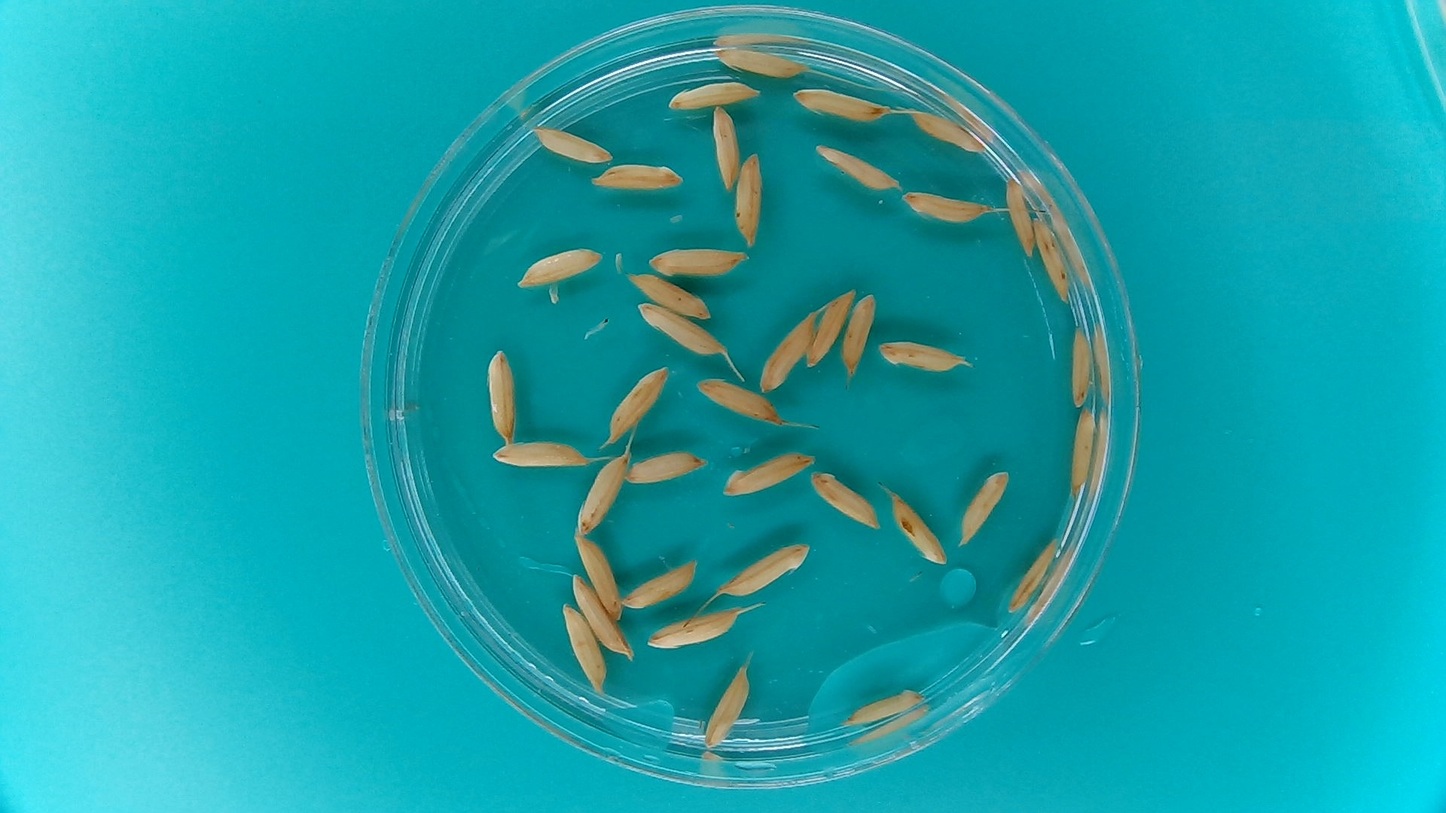no: (785, 75, 901, 129), (599, 361, 670, 445), (567, 447, 631, 540), (883, 488, 950, 571), (569, 577, 634, 661), (631, 302, 731, 355), (709, 33, 814, 83), (718, 539, 811, 595), (758, 308, 817, 394), (956, 467, 1013, 554), (810, 468, 883, 534), (812, 141, 902, 194), (661, 69, 768, 113), (529, 117, 619, 169), (644, 608, 749, 651), (560, 602, 609, 694), (645, 239, 749, 282), (719, 449, 816, 495), (1006, 535, 1060, 617), (624, 271, 714, 320), (703, 662, 752, 750), (693, 376, 786, 422), (574, 529, 621, 620), (516, 243, 602, 291), (624, 559, 703, 611), (897, 186, 994, 228), (908, 105, 990, 154), (491, 434, 593, 473), (588, 157, 685, 198), (807, 288, 855, 370), (728, 150, 766, 248), (837, 688, 930, 726), (484, 344, 519, 444), (1033, 214, 1072, 303), (621, 448, 709, 486), (707, 103, 744, 193), (839, 291, 877, 377), (877, 339, 969, 373), (1004, 175, 1035, 259), (1068, 403, 1093, 503), (1068, 323, 1097, 409)
